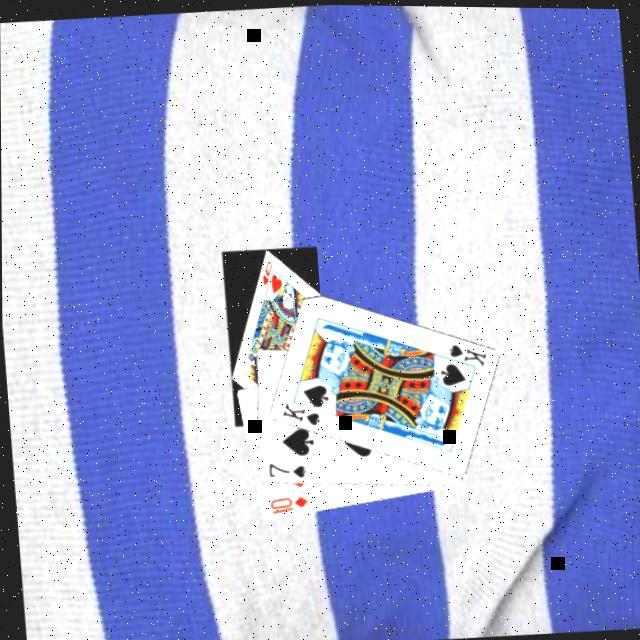10D: (264, 492, 309, 518)
7S: (263, 458, 307, 483)
KS: (436, 338, 488, 374), (276, 397, 322, 431)
